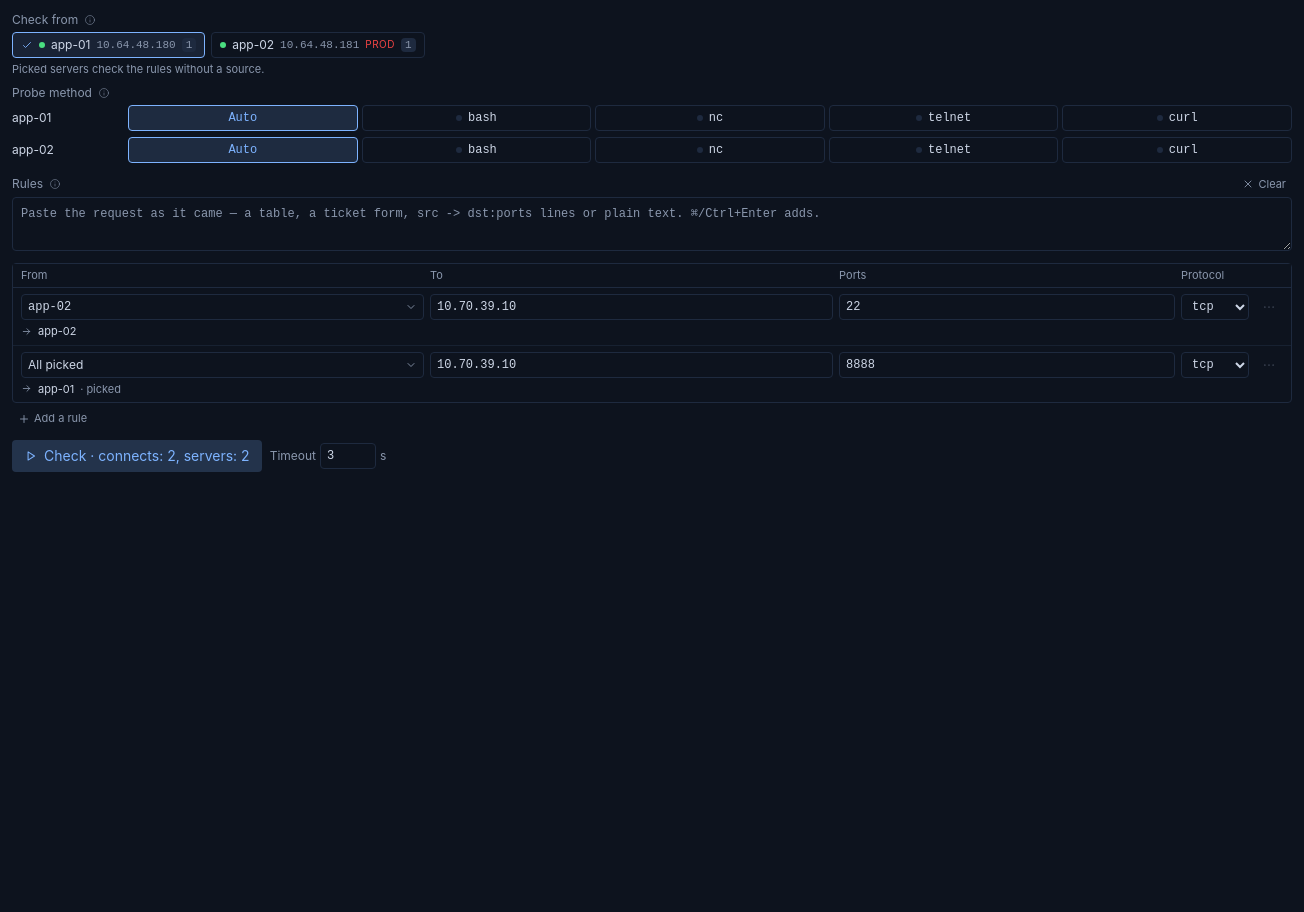
it: UtilNetCheck › runs a rule from the server its source names, every server at once
The width and height of the screenshot is (1304, 912).
Expected: the 2nd element with test id "netcheck-route" reads "app-02", [38, 324, 76, 338]
Expected: the element with test id "netcheck-route" shows "app-01", [38, 382, 74, 396]
Click the button with test id "netcheck-run" at (137, 456), box [12, 440, 262, 472]
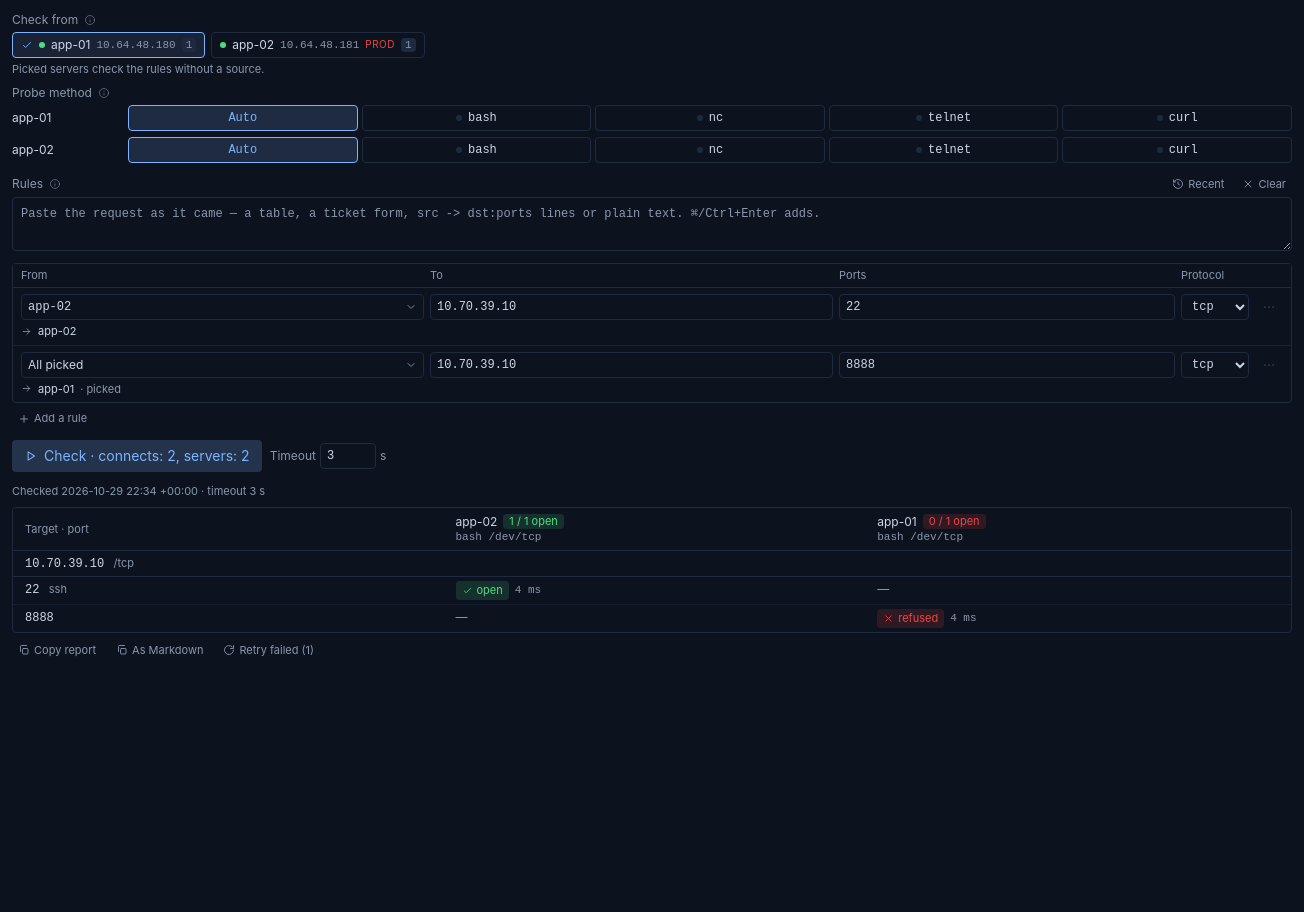
Now the number of column headings with test id "netcheck-column" is 2, box [448, 508, 869, 551]; [869, 508, 1291, 551]
Now the number of rows with test id "netcheck-row" is 2, box [13, 577, 1291, 604]; [13, 604, 1291, 632]
